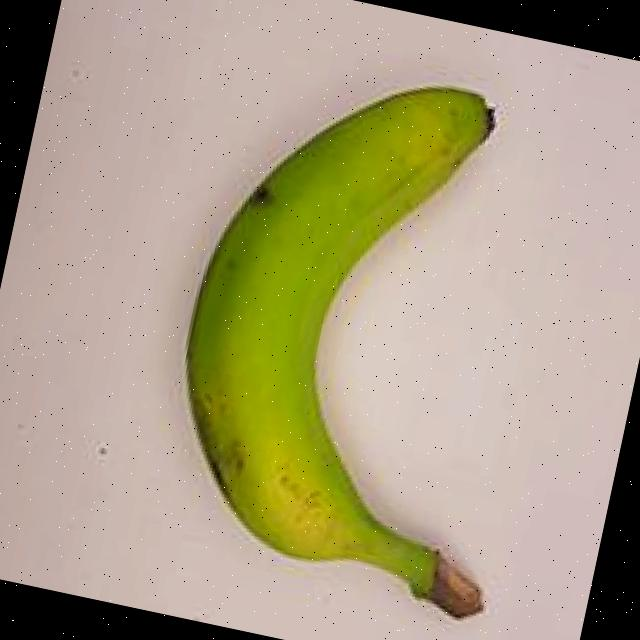Unripe: (106, 2, 640, 640)
